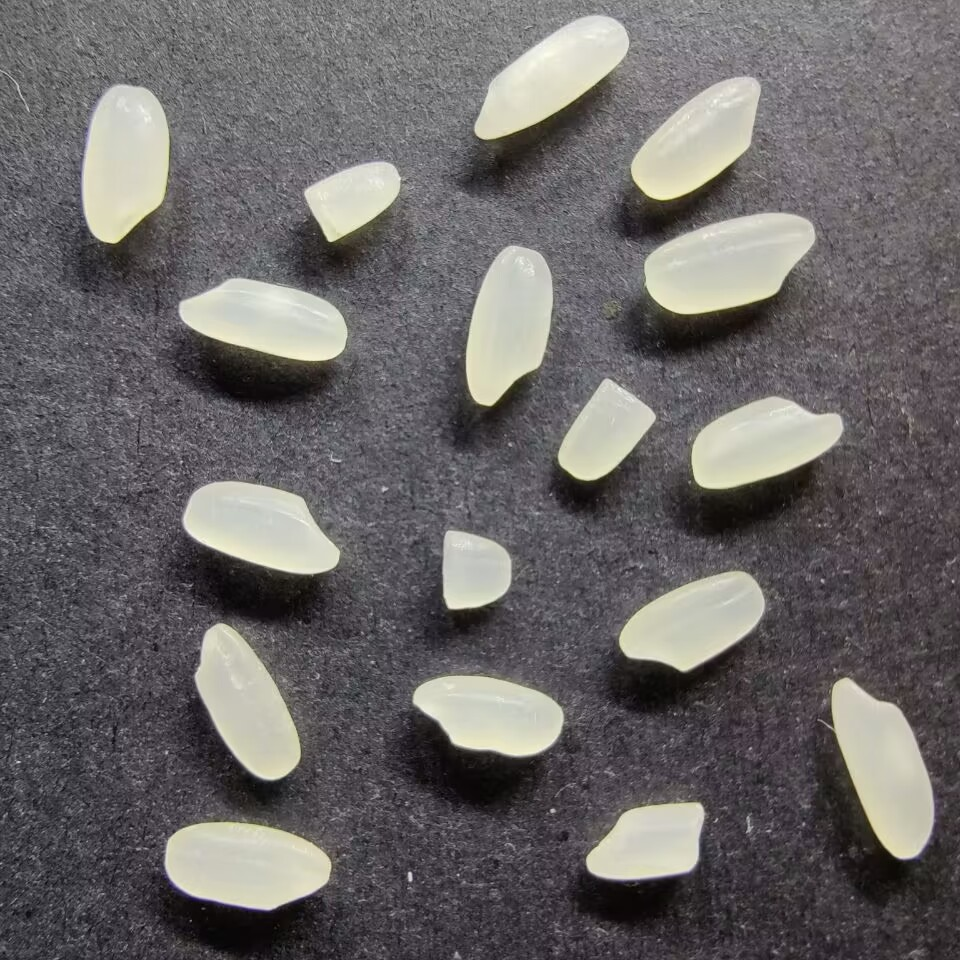broken: (579, 798, 708, 884), (555, 376, 659, 482), (299, 158, 402, 246), (439, 526, 513, 616)
rice: (471, 14, 633, 140), (830, 676, 937, 864), (641, 211, 818, 315), (189, 622, 302, 781), (628, 76, 763, 201), (180, 478, 341, 577), (616, 568, 767, 673), (161, 821, 332, 911), (79, 84, 172, 244), (176, 276, 348, 362), (463, 244, 553, 407), (688, 396, 844, 490), (410, 673, 565, 760)
